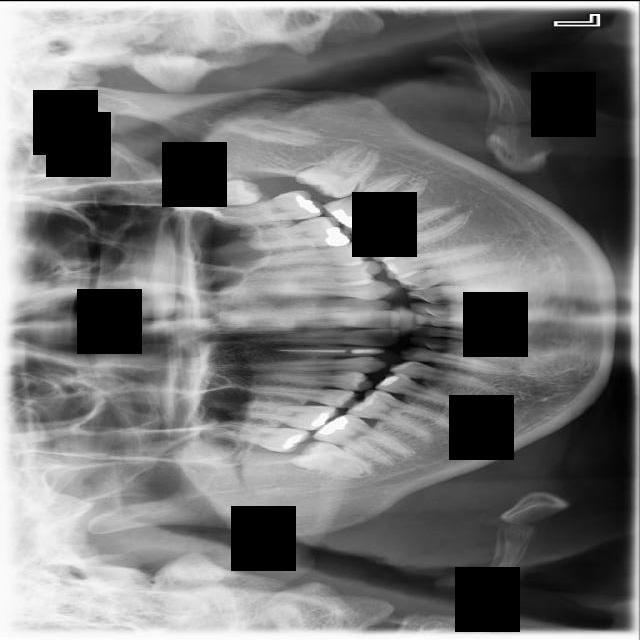52: (317, 186, 380, 243), (349, 214, 406, 272), (309, 403, 367, 451), (275, 177, 327, 229), (299, 214, 354, 247), (373, 364, 414, 402), (261, 425, 313, 454), (288, 404, 339, 430), (378, 251, 422, 281), (347, 343, 386, 356)
73: (272, 345, 350, 356), (583, 44, 596, 50)
BioHorizons Implant: (191, 186, 325, 231)
BioLife Implant: (172, 176, 261, 210)
Biomet 3i Implant: (293, 135, 393, 213)
Blue Sky Bio Implant: (320, 163, 436, 243)
Caries: (195, 416, 313, 454)
Implant: (311, 403, 419, 474)
Keystone Dental Implant: (290, 434, 376, 481)
